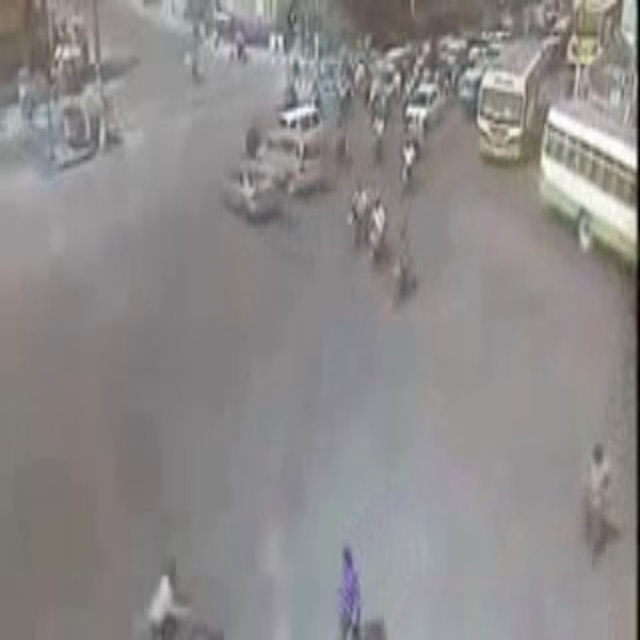acc: (216, 121, 320, 224)
